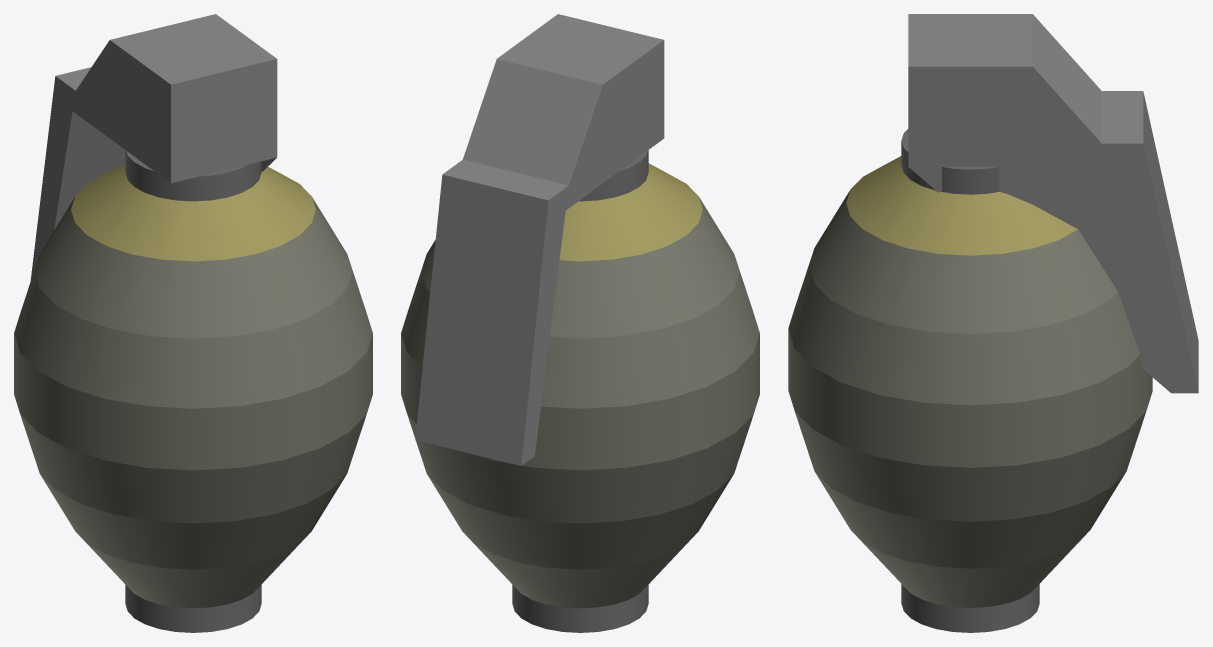
The model's file is grenade.glb.
The picture shows the model from 3 angles, left to right: view 1: azimuth 30°, elevation 25°; view 2: azimuth 150°, elevation 25°; view 3: azimuth 270°, elevation 25°; orthographic projection.
Visible parts, largest first — view 1: grenade; view 2: grenade; view 3: grenade.
Part boxes in pixels (x1,y1,x2,y2): grenade: (14, 14, 372, 632); grenade: (401, 14, 759, 632); grenade: (788, 14, 1198, 632).
Bounding box in the file's own units: 0.0158 × 0.027 × 0.0178.
